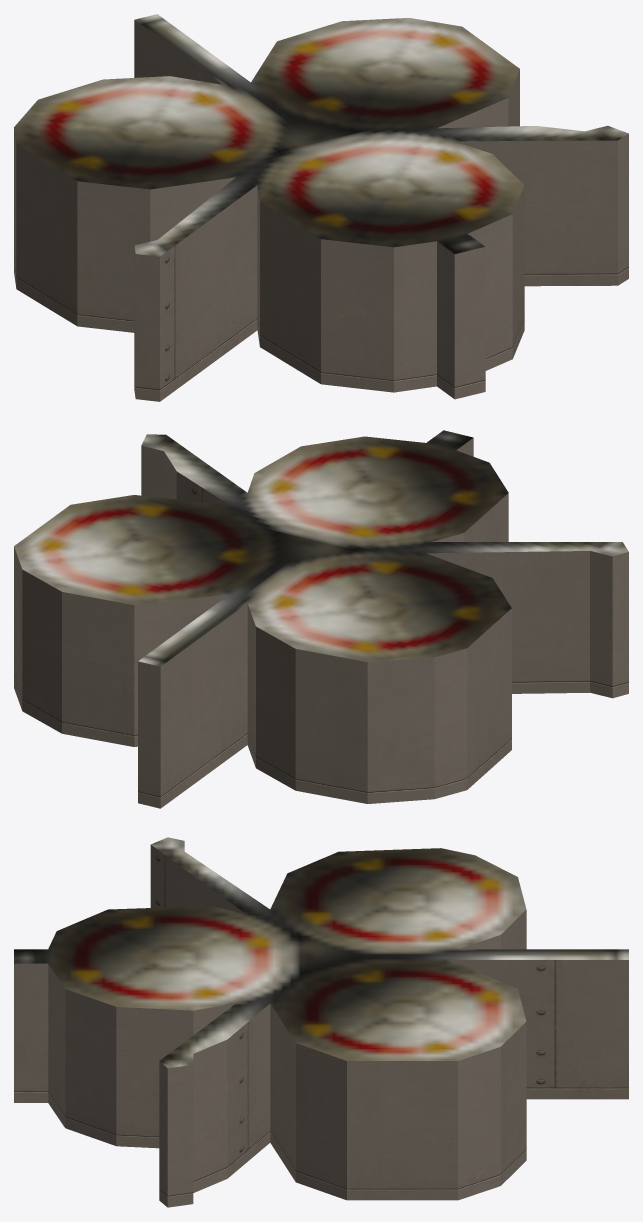
Rendered from fuel_tank_light_29.glb.
3 renders of one model, top to bottom at view 1: azimuth 30°, elevation 25°; view 2: azimuth 150°, elevation 25°; view 3: azimuth 270°, elevation 25°, orthographic. The views are drawn at different scales.
Parts seen in each view (by area): view 1: buildings/saxarba/fuel_tanks/fuel_tank_light_29; view 2: buildings/saxarba/fuel_tanks/fuel_tank_light_29; view 3: buildings/saxarba/fuel_tanks/fuel_tank_light_29.
Part boxes in pixels (x1=…): buildings/saxarba/fuel_tanks/fuel_tank_light_29: x1=14, y1=14, x2=628, y2=401; buildings/saxarba/fuel_tanks/fuel_tank_light_29: x1=14, y1=430, x2=628, y2=808; buildings/saxarba/fuel_tanks/fuel_tank_light_29: x1=14, y1=837, x2=628, y2=1207.
Size of the model in its own units: 64 by 18 by 72.
